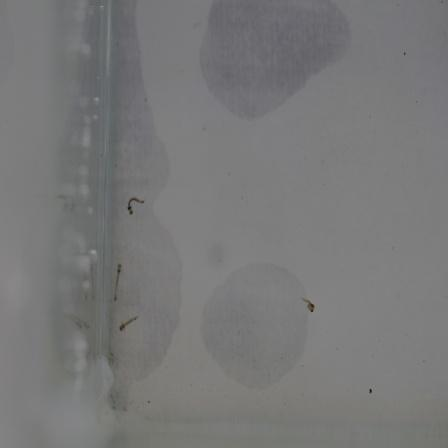Jentik-Nyamuk: (110, 259, 125, 304), (122, 194, 147, 219), (116, 312, 143, 334), (298, 294, 318, 319)
